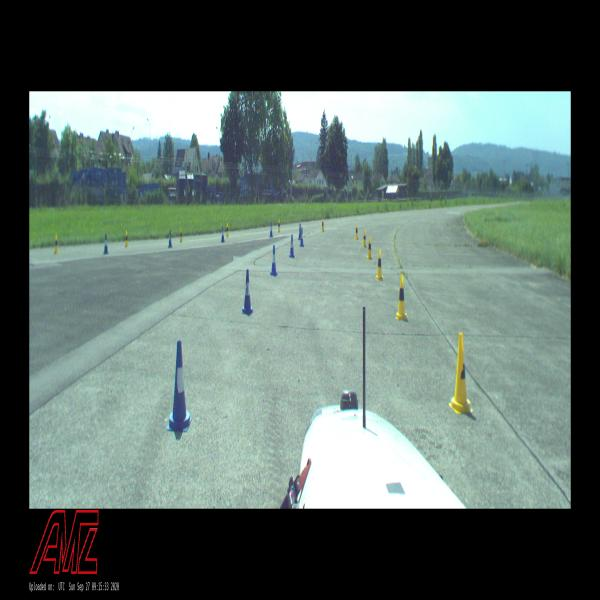blue_cone: (167, 340, 192, 432), (242, 269, 253, 316), (270, 245, 278, 277), (289, 234, 295, 258), (103, 234, 109, 255), (168, 230, 173, 248), (300, 228, 304, 246), (221, 226, 225, 243), (298, 223, 301, 240), (270, 222, 273, 237)
yellow_cone: (448, 332, 474, 414), (396, 273, 408, 321), (375, 249, 384, 281), (367, 236, 373, 260), (54, 234, 59, 255), (363, 228, 367, 248), (179, 227, 184, 243), (125, 229, 129, 248), (354, 223, 358, 240), (226, 223, 229, 237), (322, 218, 324, 232), (278, 219, 280, 232)
